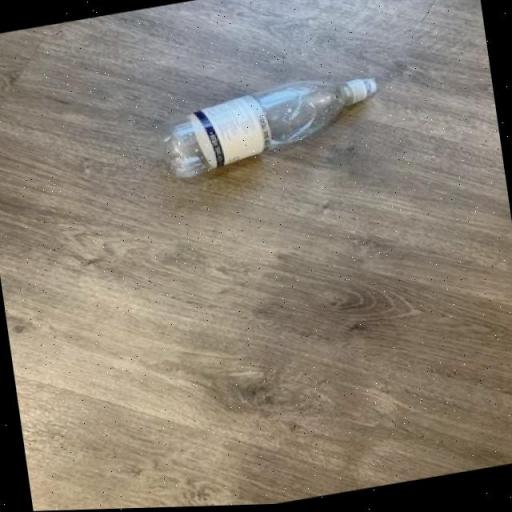plastic: (148, 67, 386, 185)
